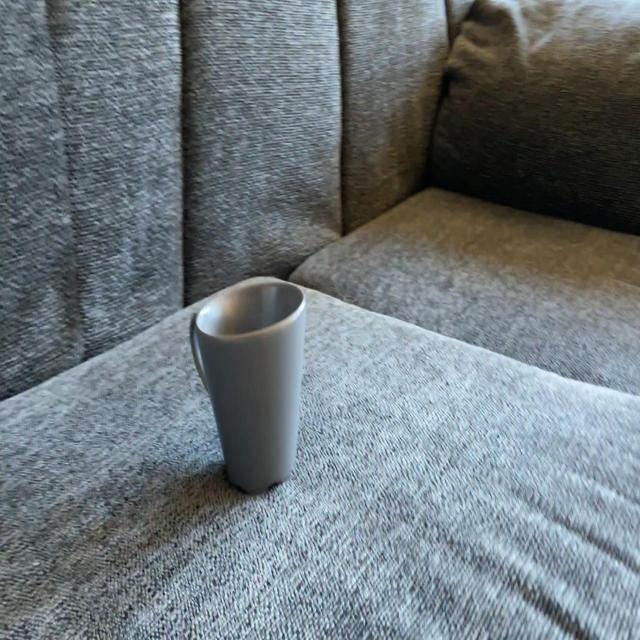cup: (189, 283, 312, 495)
